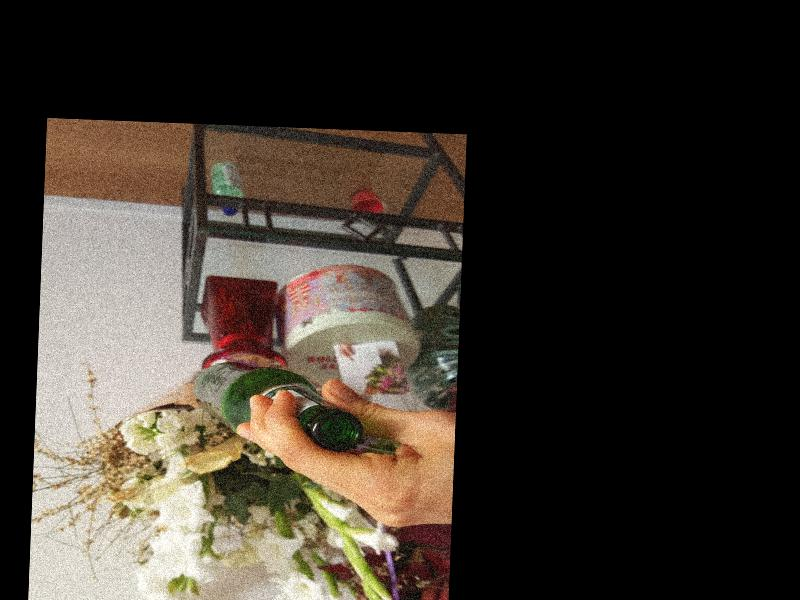Beer: (191, 359, 365, 451)
